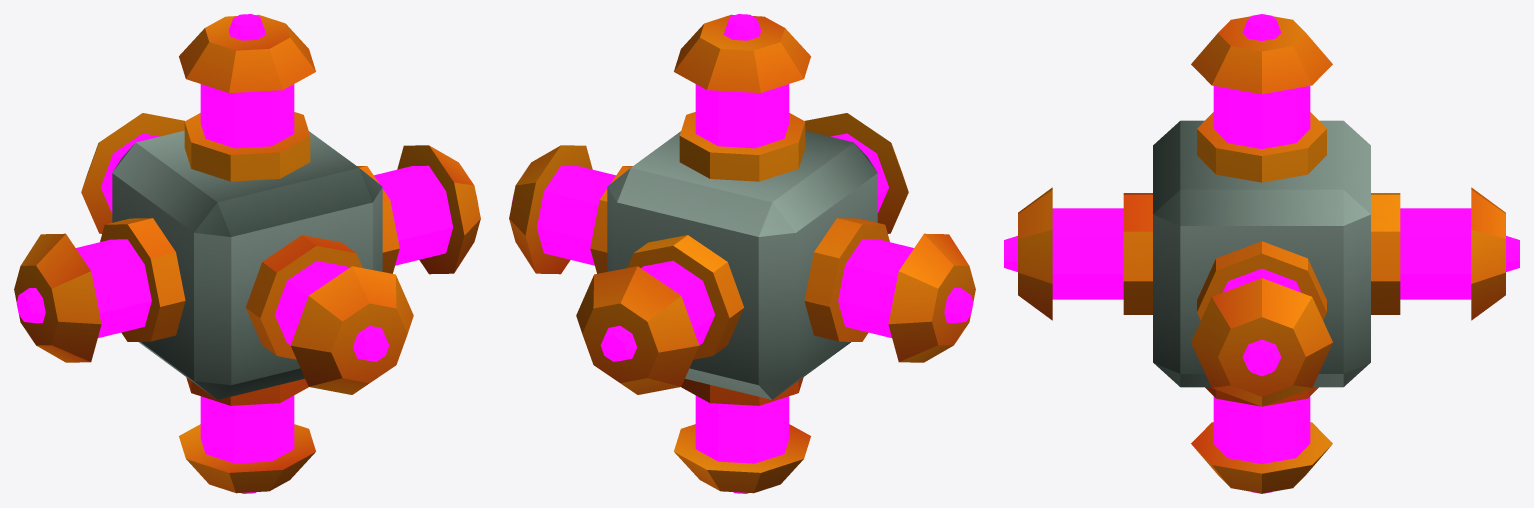
3 renders of one model, left to right at view 1: azimuth 30°, elevation 25°; view 2: azimuth 150°, elevation 25°; view 3: azimuth 270°, elevation 25°, orthographic.
Visible parts, largest first — view 1: object.013; view 2: object.013; view 3: object.013.
Part boxes in pixels (x1,y1,x2,y2): object.013: (14,14,480,493); object.013: (509,14,975,493); object.013: (1004,14,1519,493).
Bounding box in the file's own units: 206 × 206 × 206.
